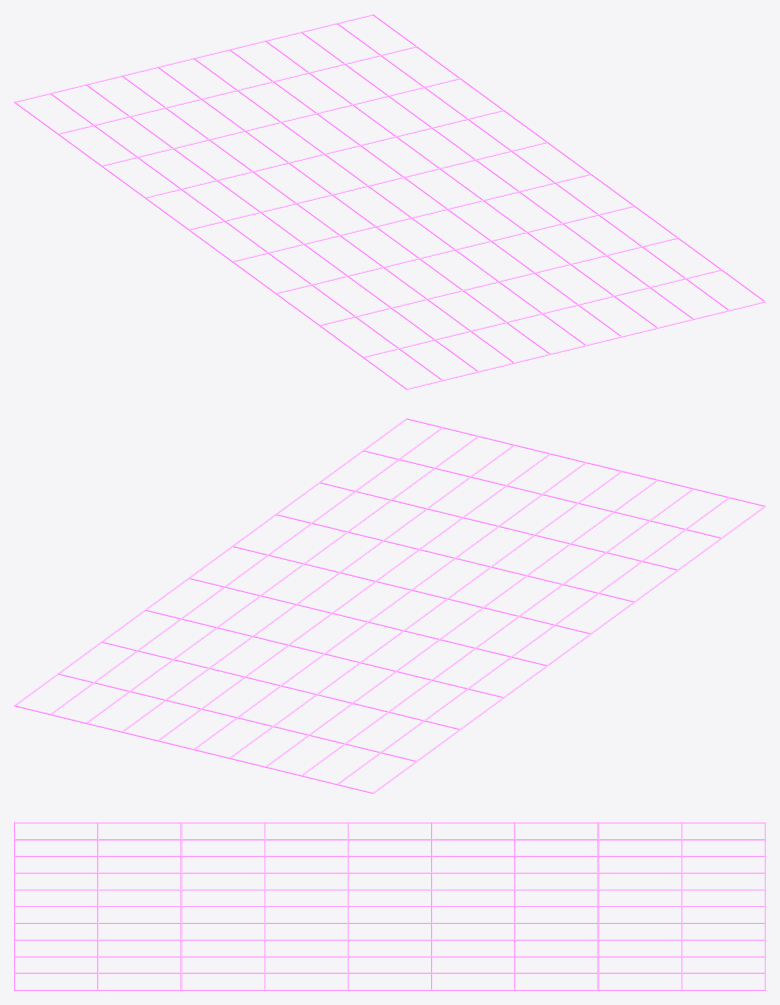
3 renders of one model, top to bottom at view 1: azimuth 30°, elevation 25°; view 2: azimuth 150°, elevation 25°; view 3: azimuth 270°, elevation 25°, orthographic. The views are drawn at different scales.
Parts seen in each view (by area): view 1: Plane; view 2: Plane; view 3: Plane.
Part boxes in pixels (bbox=[...]): Plane: bbox=[14, 14, 765, 389]; Plane: bbox=[14, 418, 765, 793]; Plane: bbox=[14, 822, 765, 990].
Size of the model in its own units: 714 by 2.49 by 1351.
